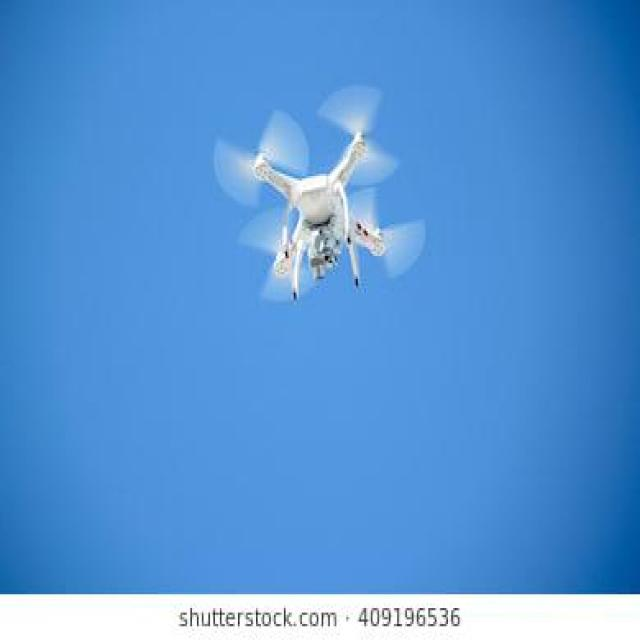drone: (165, 39, 483, 365)
